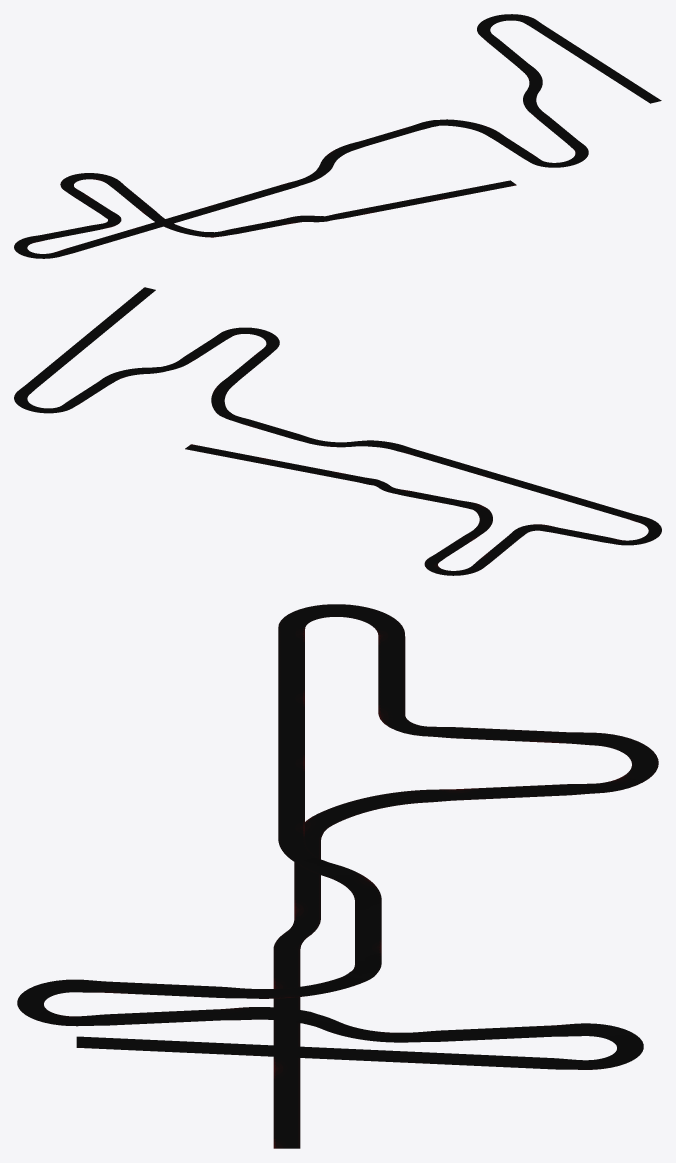
The model's file is road_surface.glb.
3 renders of one model, top to bottom at view 1: azimuth 30°, elevation 25°; view 2: azimuth 150°, elevation 25°; view 3: azimuth 270°, elevation 25°, orthographic. The views are drawn at different scales.
Parts seen in each view (by area): view 1: Turn05, Turn10, Turn01, Turn02, Turn03, Turn04, Turn06, Turn08, Turn09, Turn07; view 2: Turn05, Turn01, Turn10, Turn04, Turn06, Turn02, Turn03, Turn08, Turn09, Turn07; view 3: Turn01, Turn05, Turn10, Turn02, Turn09, Turn08, Turn03, Turn06, Turn04, Turn07.
Boxes of the visible parts, left/top/right/bottom form: Turn05: left=125, top=123, right=425, bottom=236; Turn10: left=223, top=180, right=516, bottom=235; Turn01: left=477, top=14, right=661, bottom=103; Turn02: left=482, top=36, right=543, bottom=114; Turn03: left=527, top=112, right=588, bottom=167; Turn04: left=419, top=119, right=539, bottom=160; Turn06: left=14, top=231, right=130, bottom=258; Turn08: left=60, top=173, right=120, bottom=216; Turn09: left=110, top=182, right=228, bottom=237; Turn07: left=33, top=214, right=121, bottom=241; Turn05: left=235, top=417, right=576, bottom=501; Turn01: left=14, top=287, right=155, bottom=413; Turn10: left=185, top=444, right=469, bottom=507; Turn04: left=211, top=348, right=272, bottom=421; Turn06: left=568, top=497, right=661, bottom=545; Turn02: left=64, top=360, right=190, bottom=406; Turn03: left=180, top=327, right=279, bottom=361; Turn08: left=424, top=531, right=522, bottom=575; Turn09: left=431, top=502, right=492, bottom=560; Turn07: left=513, top=524, right=617, bottom=543; Turn01: left=76, top=1023, right=643, bottom=1069; Turn05: left=278, top=688, right=381, bottom=961; Turn10: left=273, top=843, right=320, bottom=1148; Turn02: left=242, top=1007, right=576, bottom=1042; Turn09: left=305, top=783, right=587, bottom=843; Turn08: left=432, top=727, right=658, bottom=793; Turn03: left=17, top=979, right=242, bottom=1026; Turn06: left=278, top=604, right=405, bottom=690; Turn04: left=83, top=960, right=381, bottom=998; Turn07: left=378, top=637, right=437, bottom=736.
Size of the model in its own units: 373 by 60 by 180.
Materials: 1 (1 with a texture image).
